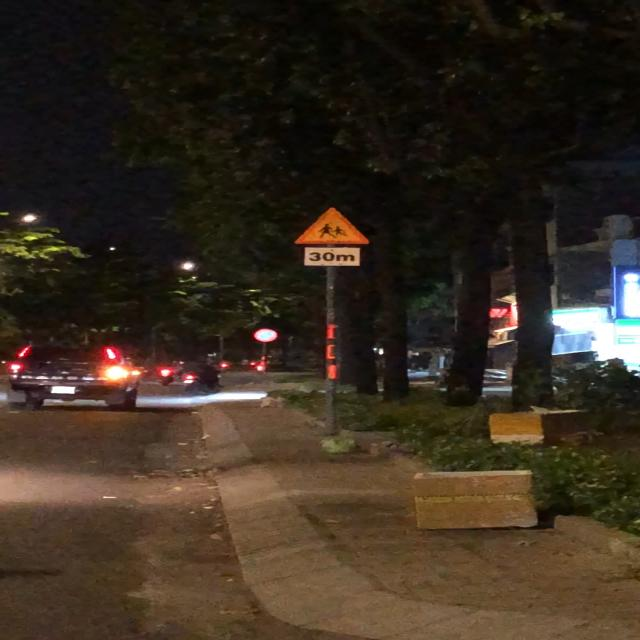Bien bao tre em: (292, 203, 371, 247)
